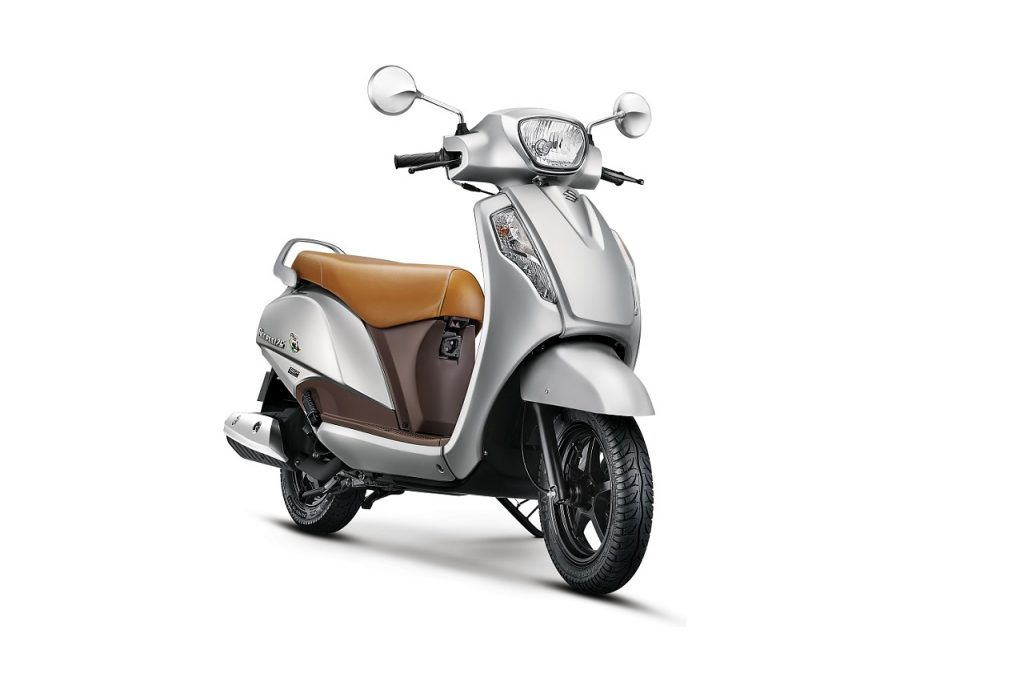motorcycle: (251, 97, 664, 602)
